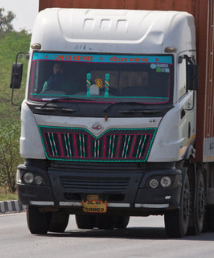truck: (8, 4, 208, 240)
